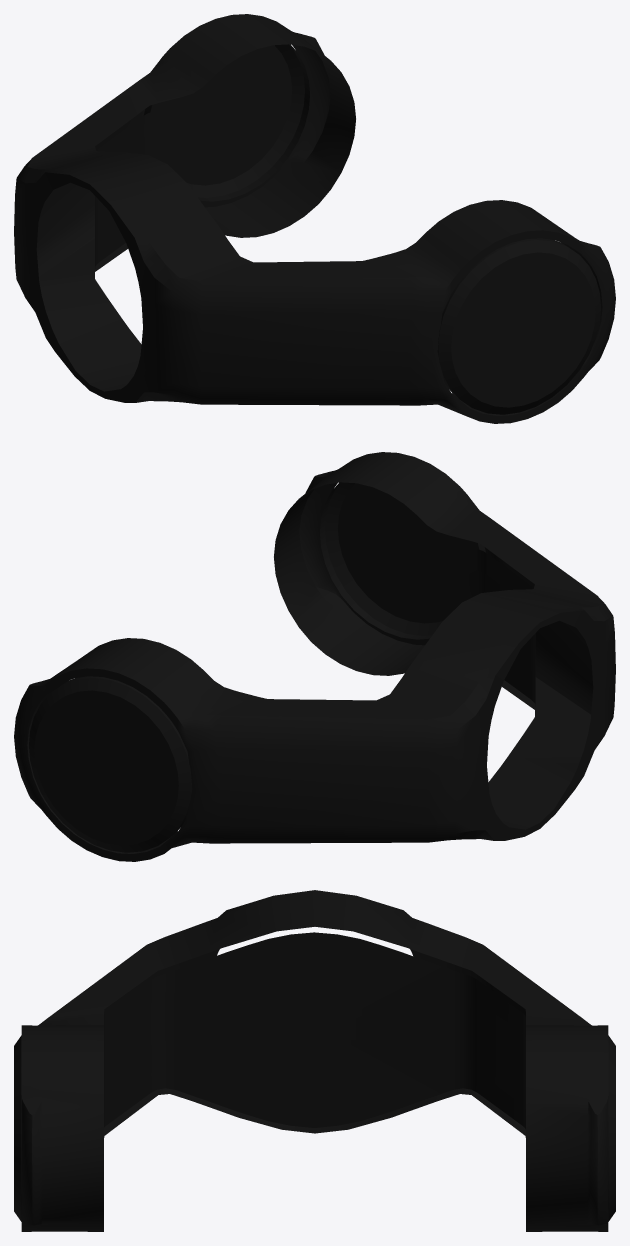
Rendered from gimbal_1.dae.
3 views of the same model, one above another, from view 1: azimuth 30°, elevation 25°; view 2: azimuth 150°, elevation 25°; view 3: azimuth 270°, elevation 25° (orthographic).
Parts seen in each view (by area): view 1: JT_14.001, JT_06.001, JT_07.001, JT_04.001; view 2: JT_14.001, JT_07.001, JT_06.001, JT_04.001; view 3: JT_04.001, JT_14.001, JT_06.001, JT_07.001.
Part boxes in pixels (x1,y1,x2,y2): JT_14.001: (14,14,615,423); JT_06.001: (437,238,600,414); JT_07.001: (143,44,309,201); JT_04.001: (95,102,189,268); JT_14.001: (14,452,615,861); JT_07.001: (29,676,192,852); JT_06.001: (320,482,485,639); JT_04.001: (441,540,535,706); JT_04.001: (104,932,525,1129); JT_14.001: (21,890,608,1231); JT_06.001: (14,1035,21,1221); JT_07.001: (608,1035,615,1221).
Bounding box in the file's own units: 0.0462 × 0.0632 × 0.024.
1 material, 1 textured.
